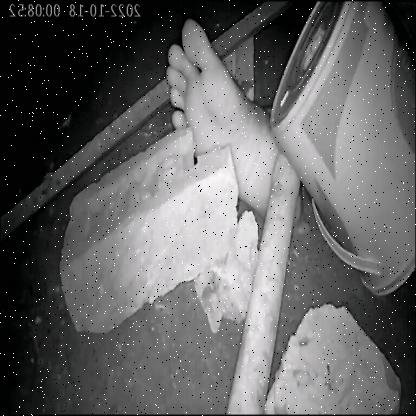leg: (146, 12, 308, 228)
